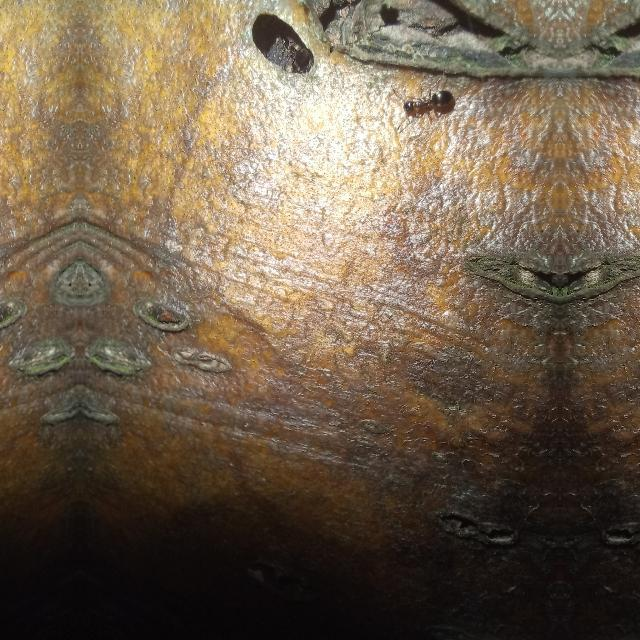Dolichoderus: (395, 76, 461, 124)
